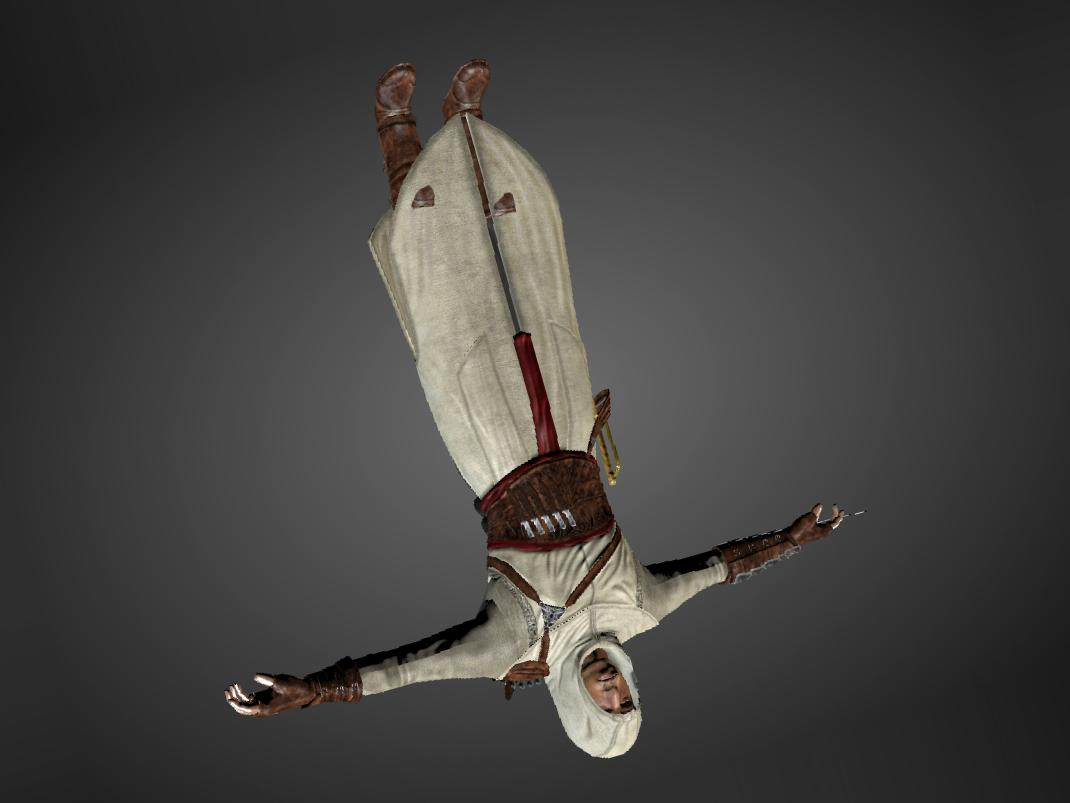clip: (488, 188, 524, 224), (409, 182, 443, 218)
